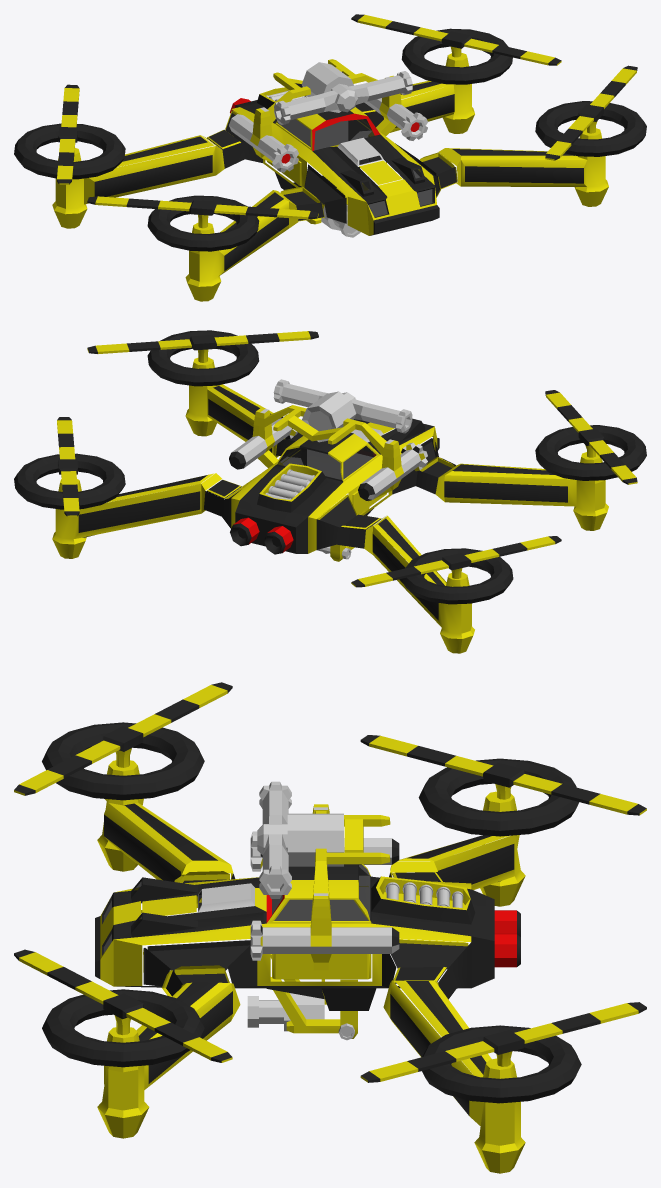
The model's file is drone.glb.
3 views of the same model, one above another, from view 1: azimuth 30°, elevation 25°; view 2: azimuth 150°, elevation 25°; view 3: azimuth 270°, elevation 25° (orthographic). The views are drawn at different scales.
Parts seen in each view (by area): view 1: drone_costum_Cube; view 2: drone_costum_Cube; view 3: drone_costum_Cube.
Boxes of the visible parts, x1,y1,x2,y2 form: drone_costum_Cube: (14,14,646,301); drone_costum_Cube: (14,330,646,653); drone_costum_Cube: (14,682,646,1173).
Size of the model in its own units: 12.4 by 3.35 by 8.76.
